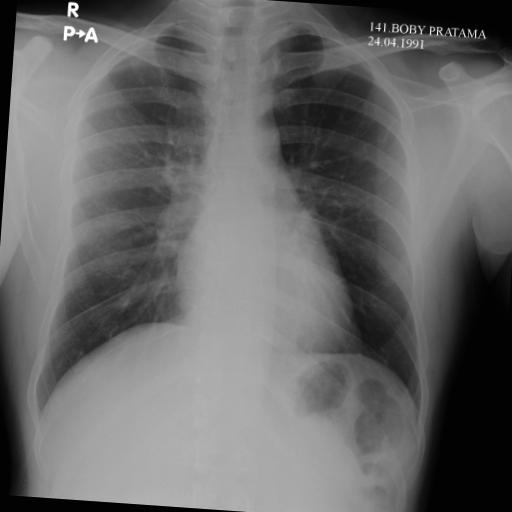normal: (27, 0, 457, 459)
